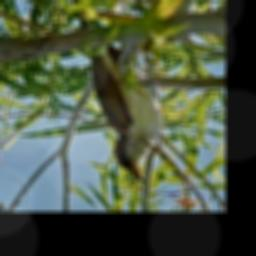Cuckoo: (67, 0, 162, 182)
